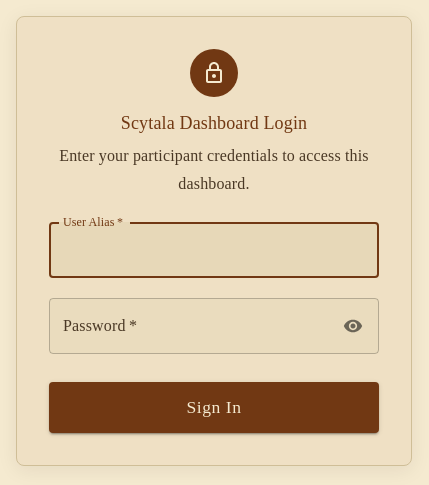
Test: LoginForm Client Component › toggles password visibility when show/hide password icon button is clicked
Click the button named "show password" at (353, 326), box [338,311,368,341]
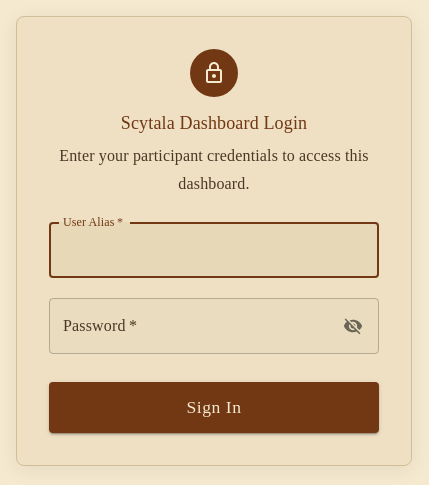
Now the button named "hide password" is shown
Click the button named "hide password" at (353, 326), box [338,311,368,341]
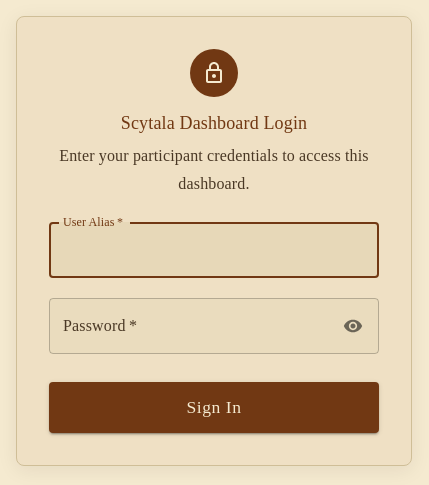
Now the button named "show password" is shown, box [338,311,368,341]
